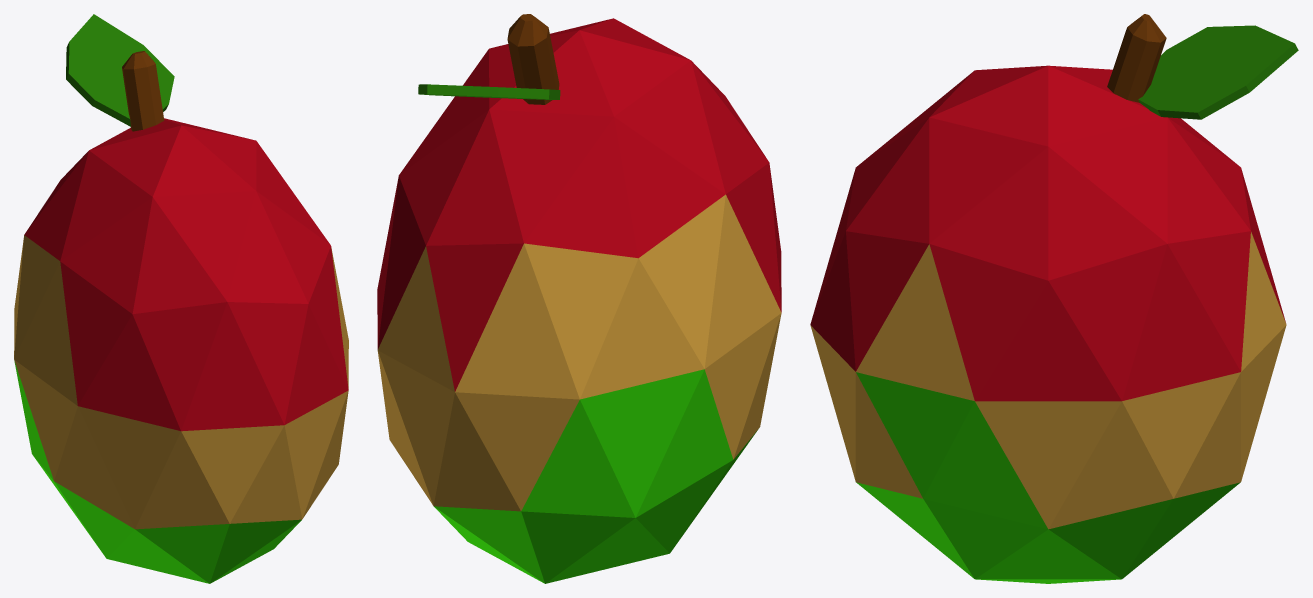
Rendered from mango.fbx.
3 views of the same model, side by side, from view 1: azimuth 30°, elevation 25°; view 2: azimuth 150°, elevation 25°; view 3: azimuth 270°, elevation 25° (orthographic). The views are drawn at different scales.
Parts seen in each view (by area): view 1: Icosphere; view 2: Icosphere; view 3: Icosphere.
Part boxes in pixels (left/top/right/bottom): Icosphere: left=14, top=14, right=348, bottom=583; Icosphere: left=377, top=14, right=781, bottom=583; Icosphere: left=810, top=14, right=1298, bottom=583.
Bounding box in the file's own units: 204 × 354 × 276.
